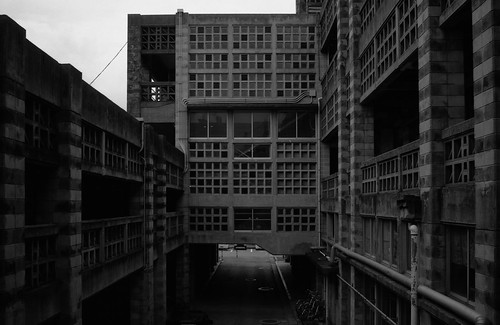building: (327, 1, 500, 315), (1, 66, 188, 325), (128, 1, 309, 246)
